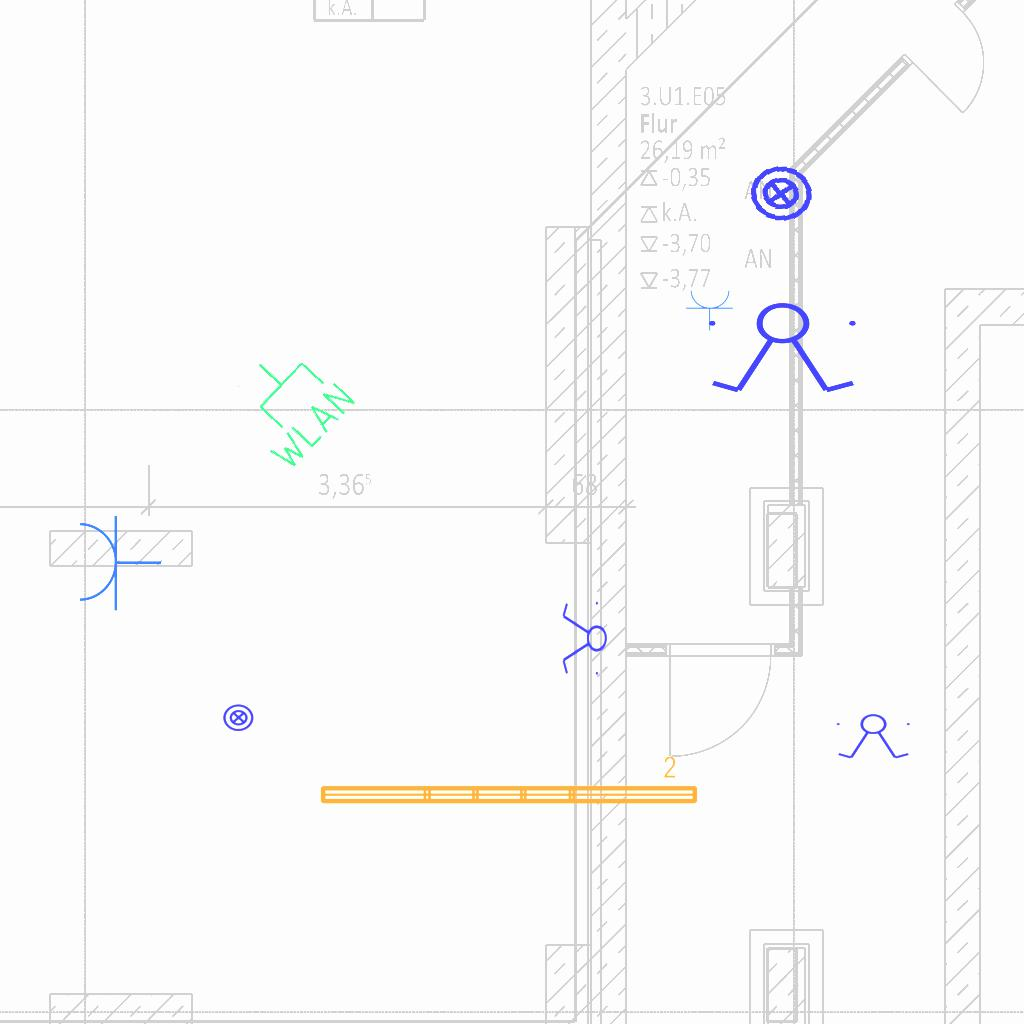Ambulanz_Pendelleuchte_LED: (315, 754, 702, 810)
Schukosteckdose_einfach: (75, 512, 162, 612), (685, 288, 735, 331)
Serienschalter: (700, 301, 868, 397), (560, 597, 608, 681), (832, 713, 916, 761)
Taster_beleuchtet: (744, 157, 818, 231), (222, 701, 255, 734)
WLAN: (214, 330, 362, 479)
